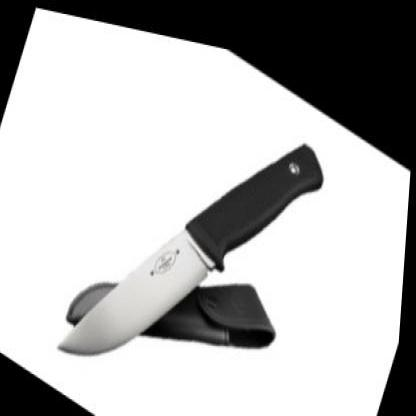knife: (50, 142, 241, 413)
